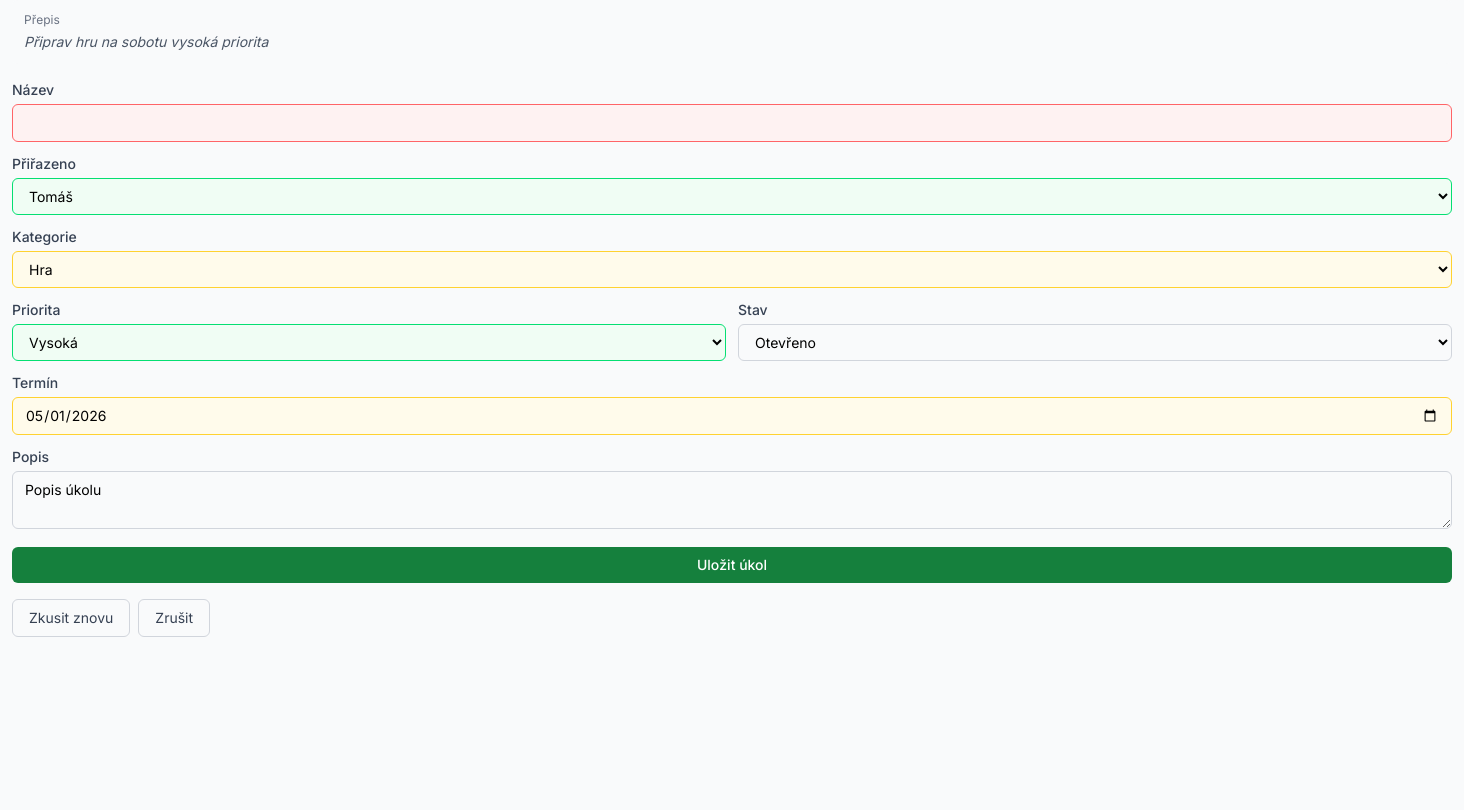
Test: VoiceTaskPreview confidence combinations › shows error when trying to save with empty title
Click the button "Uložit úkol" at point(732, 565), box [12,547,1452,583]
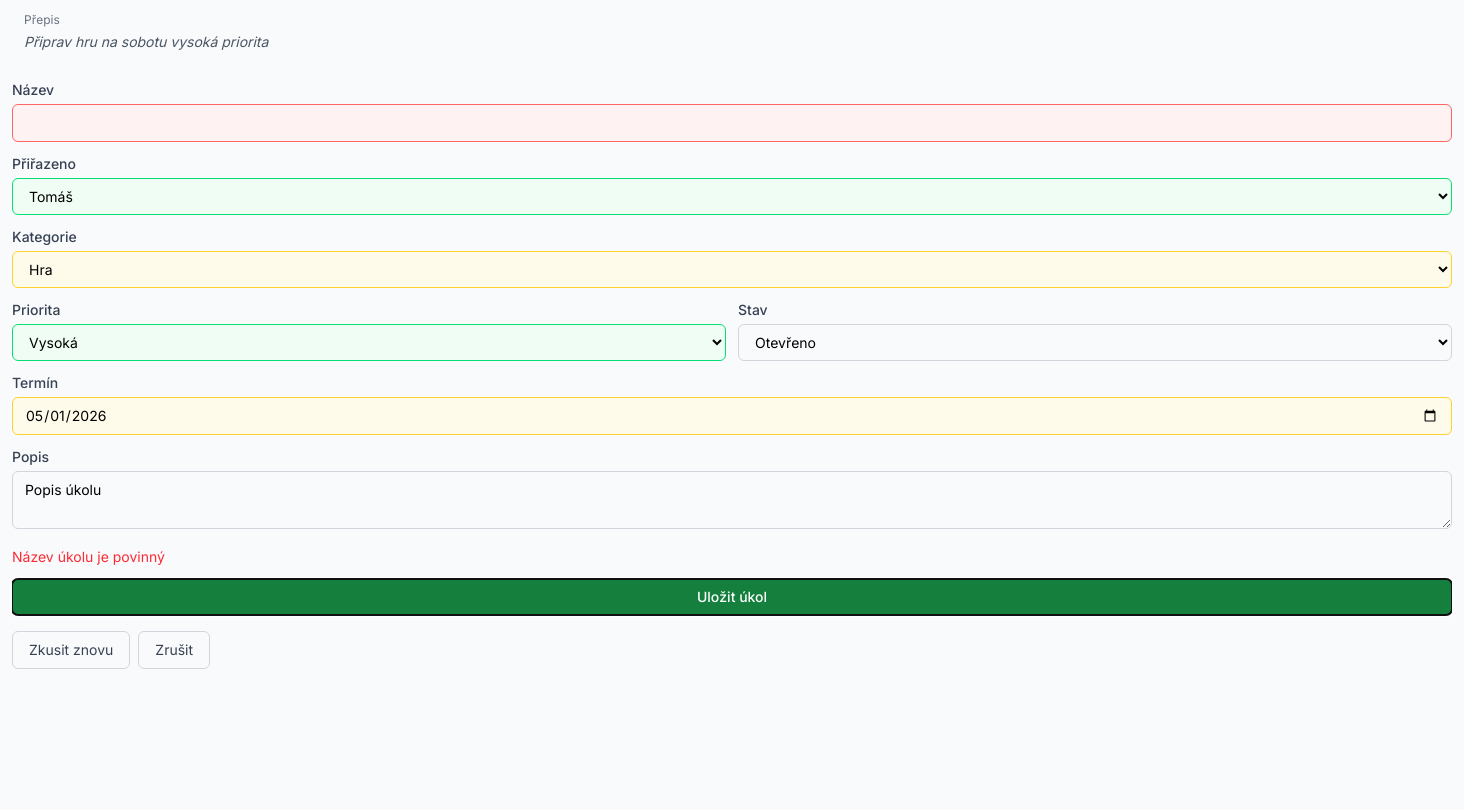
Now the text "Název úkolu je povinný" is shown, box [12,548,165,565]
